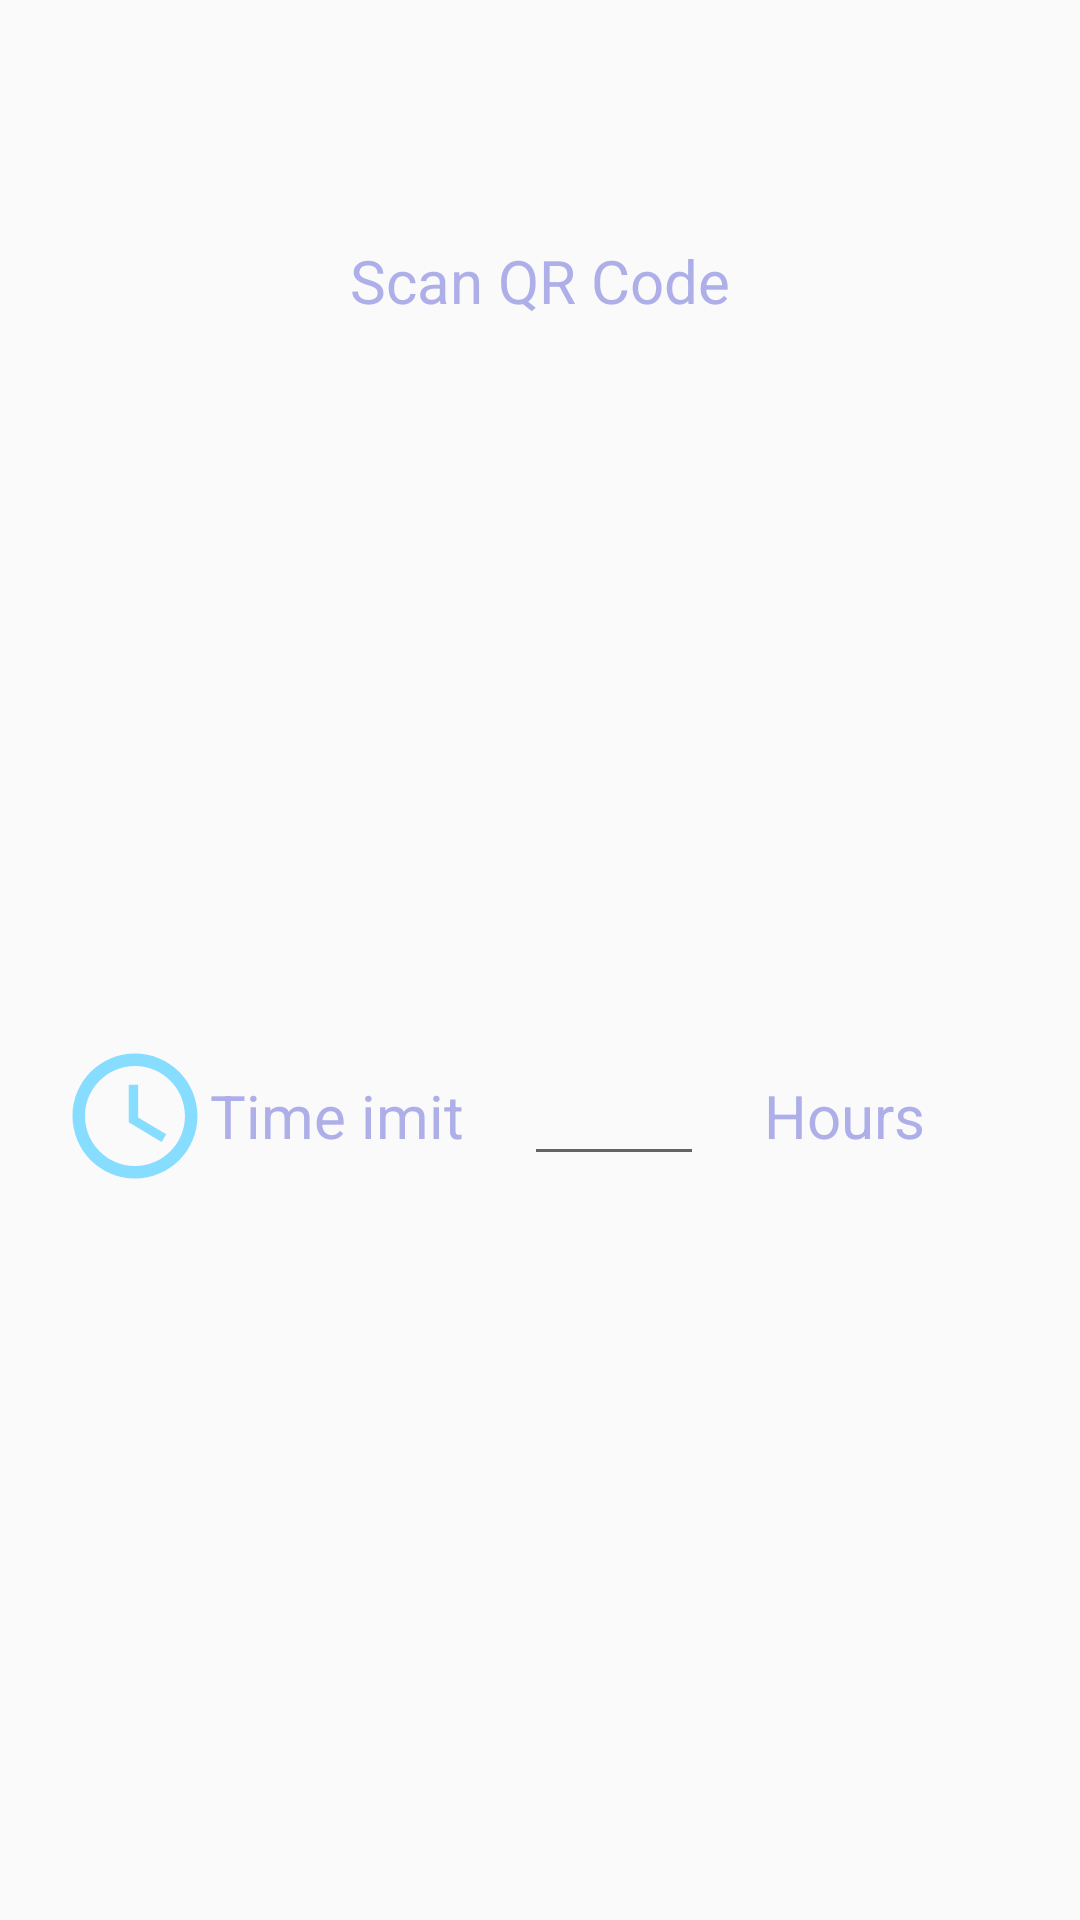

Locate icon controls on the screen. Image size 1080 × 1920, boxes as (x1, y1, x2, y2).
timer: (72, 1053, 198, 1179)
